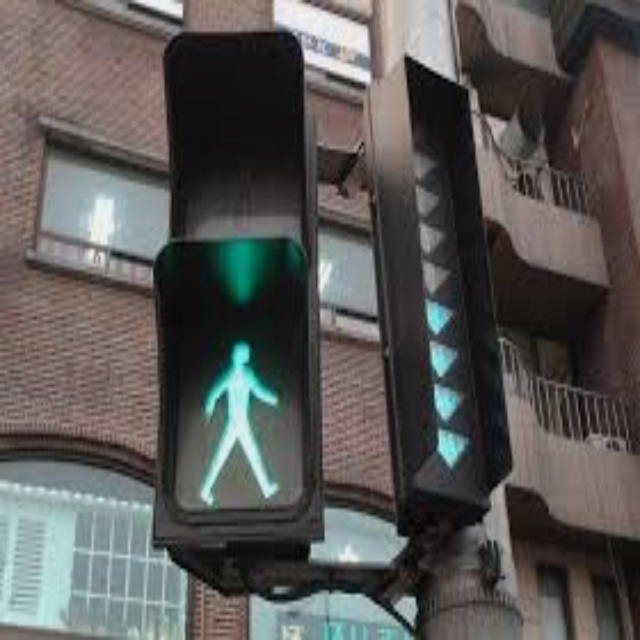green_light: (189, 335, 286, 508), (435, 427, 473, 470), (422, 297, 461, 335), (430, 383, 468, 421), (423, 344, 463, 376)
